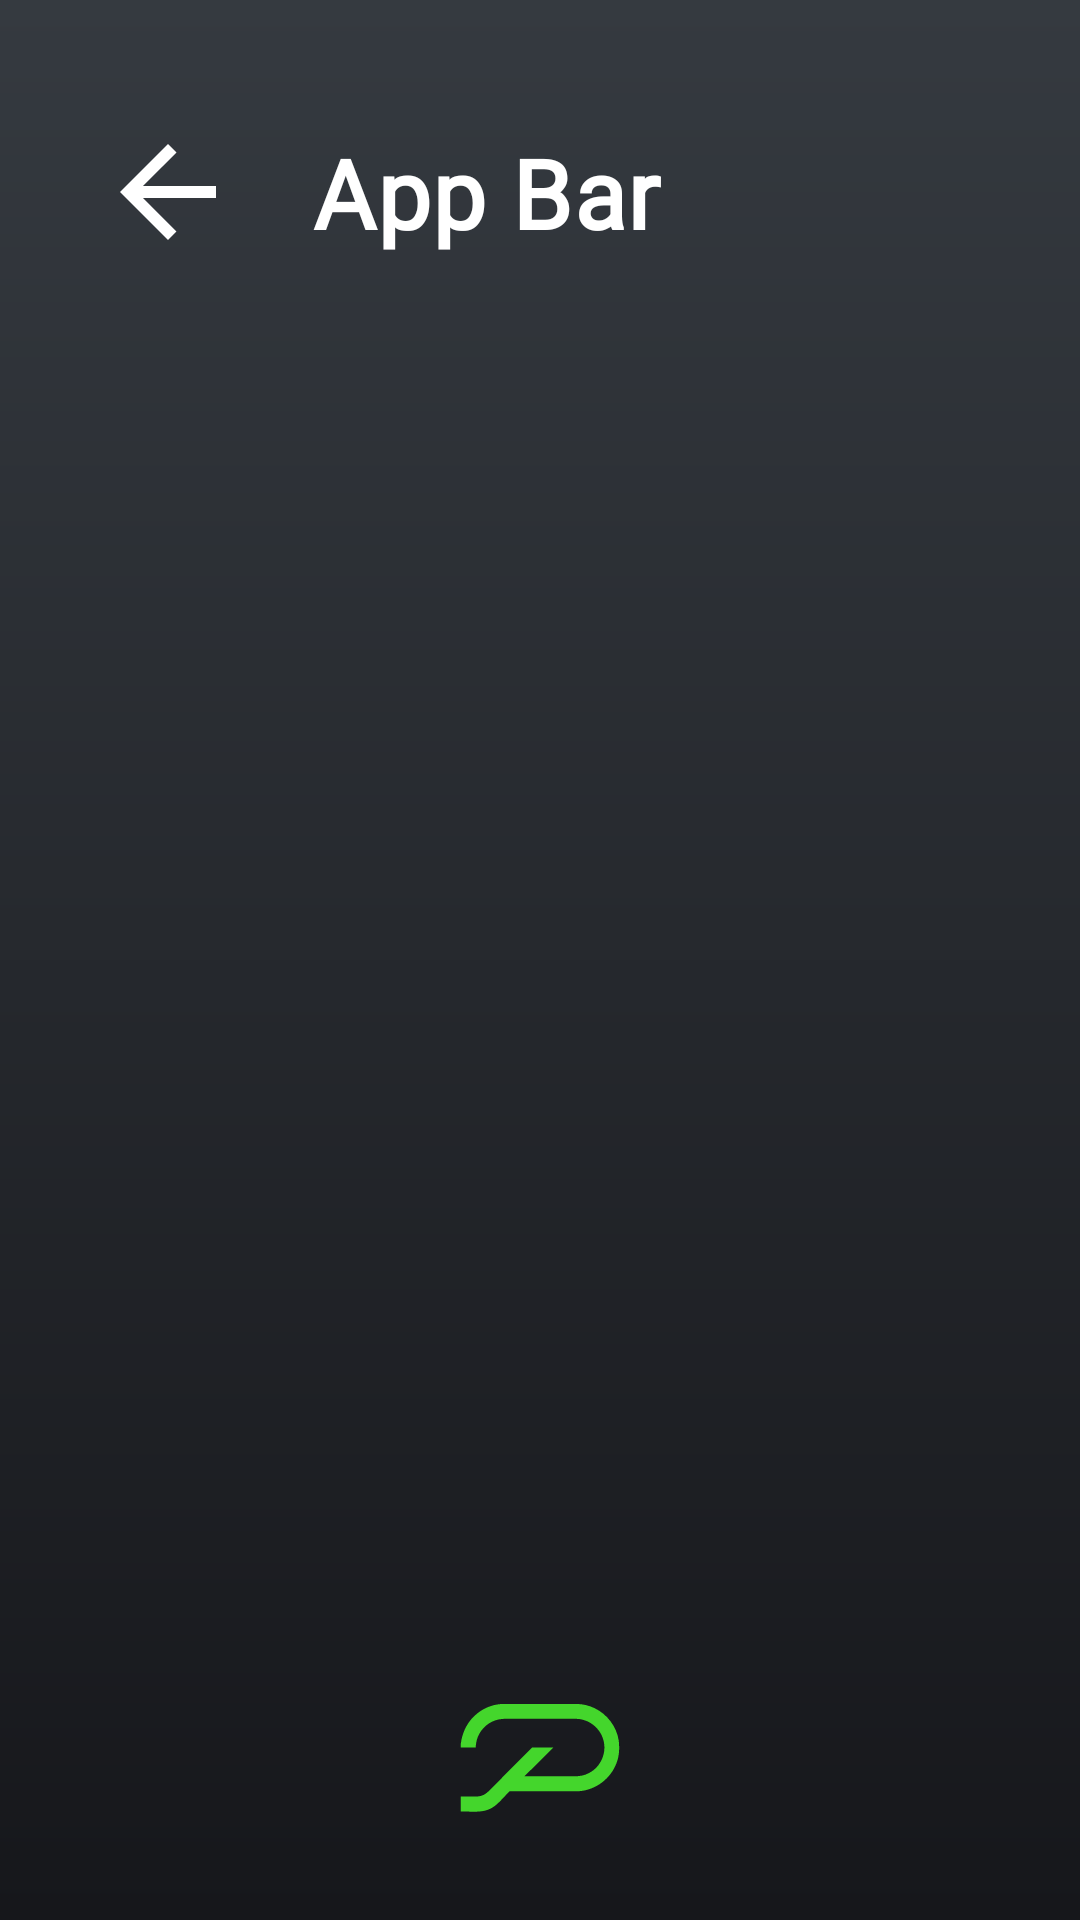

Screen size 1080 × 1920. Icon name, then its center in pixels as (x=x, y=y):
arrow back: (x=168, y=192)
